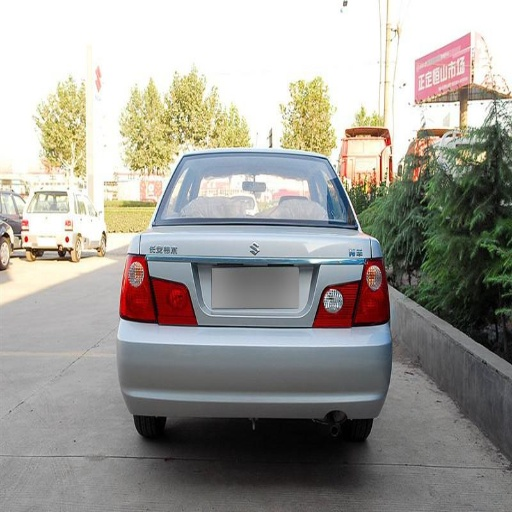back_bumper: (118, 320, 387, 419)
tailgate: (144, 221, 368, 324)
trunk: (154, 263, 360, 327), (217, 225, 343, 256)
